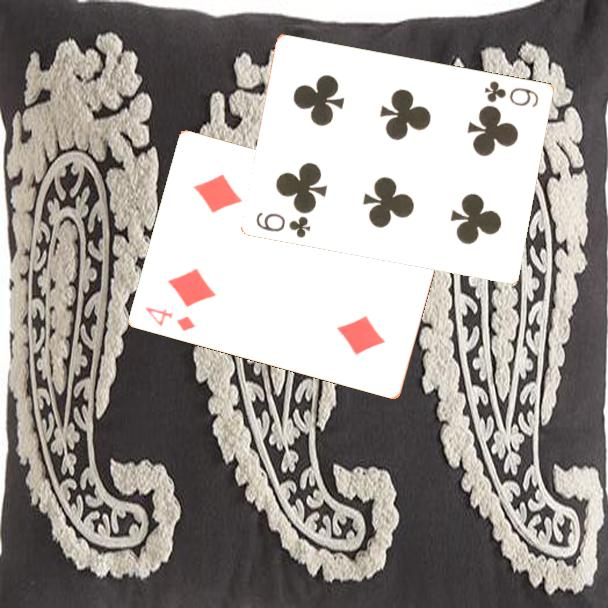c06: (481, 77, 542, 110), (253, 208, 314, 240)
d04: (142, 303, 198, 334)
